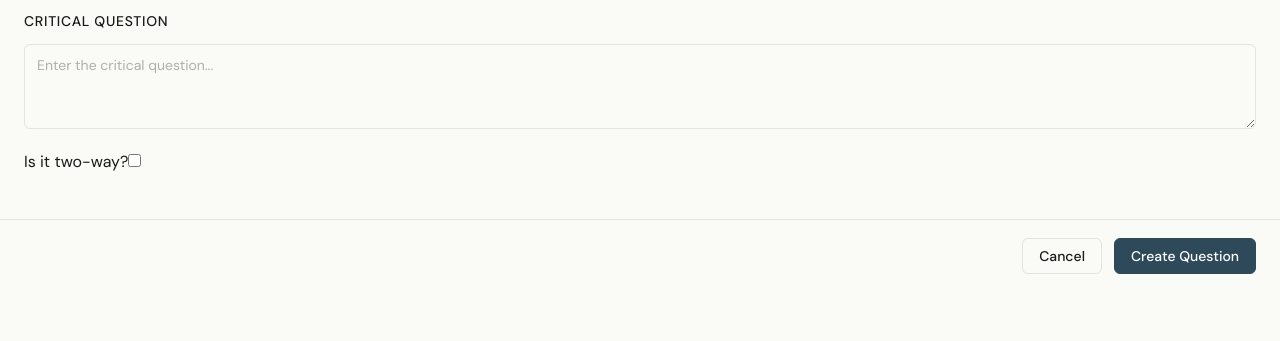
Scenario: AddCriticalQuestionForm › shows API error message on failed submission
Type "Duplicate question?" into the text box labelled "Critical question" at (640, 87), box [24,44,1256,129]
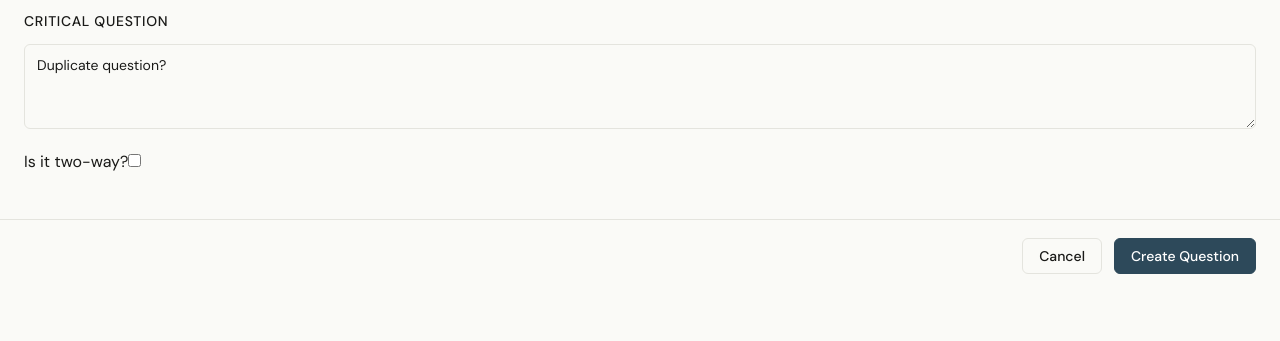
Click the button "Create Question" at (1185, 256), box [1114,238,1256,274]
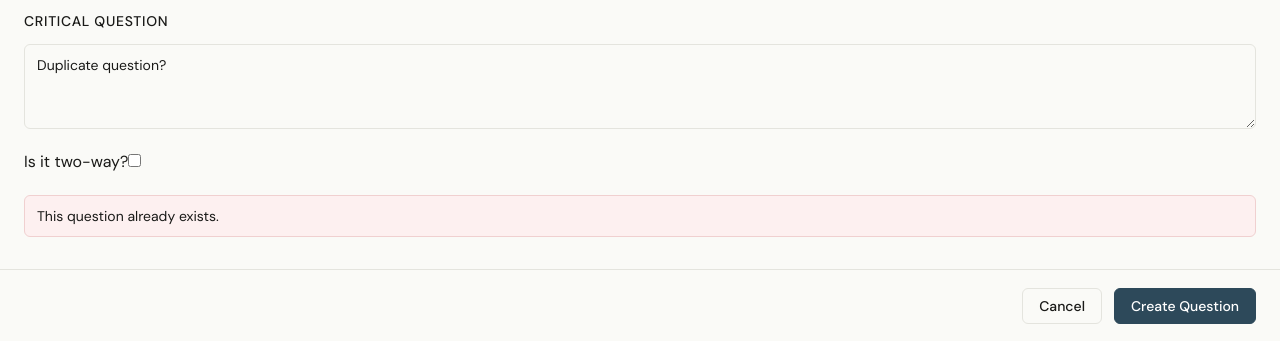
Expected: the text "This question already exists." is shown, [24,195,1256,237]
